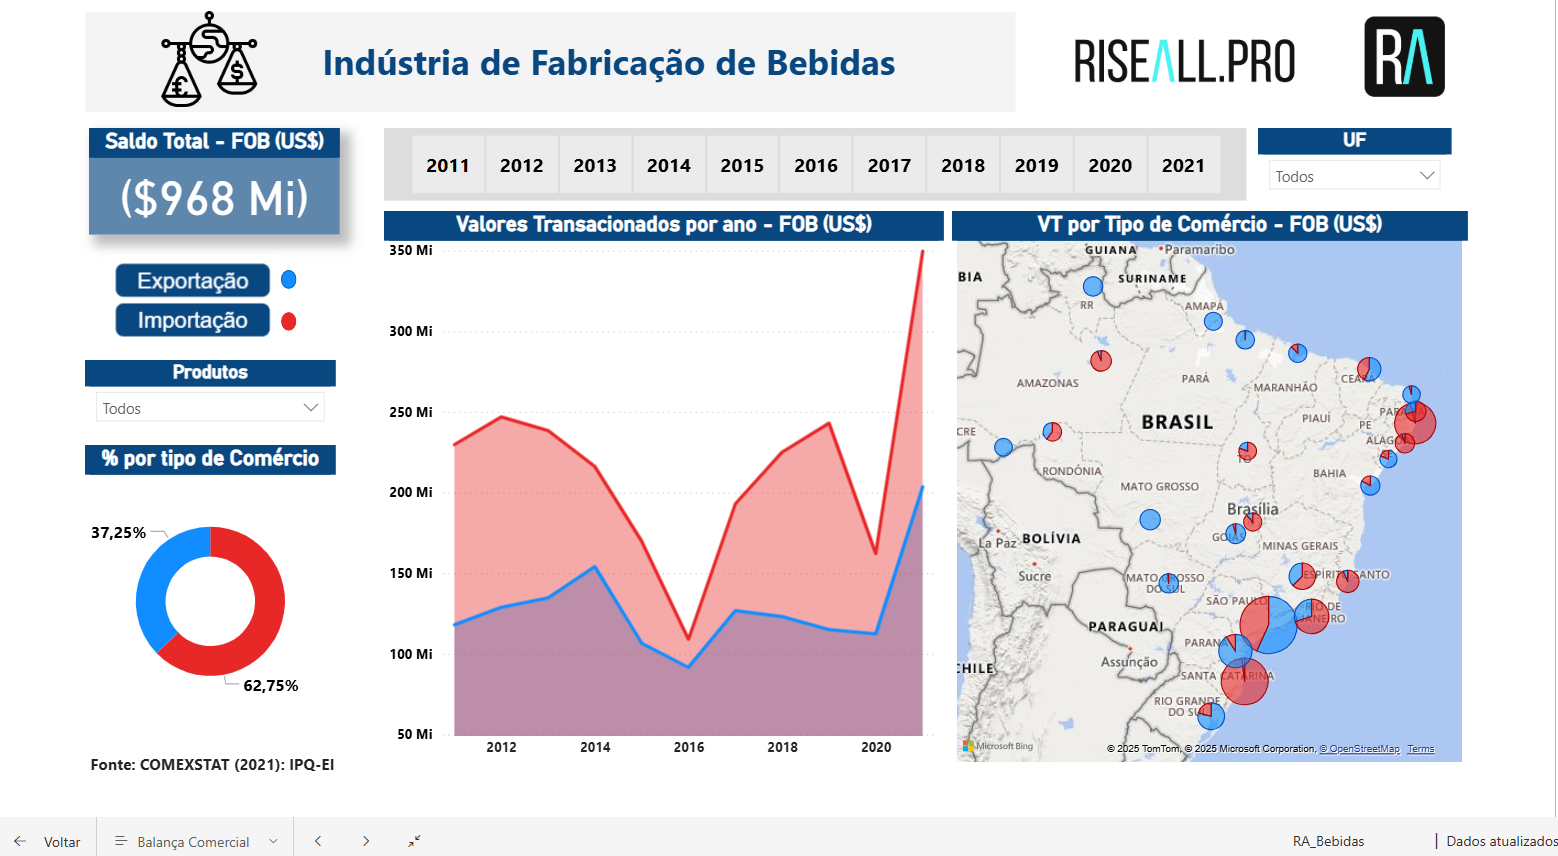

Layout of this report page (visuals, bound fields, positions):
{"tool":"powerbi","page":{"name":"Balança Comercial","canvas":[1280,720],"ordinal":6},"visuals":[{"type":"textbox","box":[15.8,11.5,846.5,90.5],"z":0},{"type":"areaChart","title":"Valores Transacionados por ano -  FOB (US$)","fields":{"Y":["Comércio_Exterior.Total Quantidade"],"Category":["Comércio_Exterior.Ano*.Variation.Hierarquia de datas.Ano"],"Series":["Comércio_Exterior.Tipo de Operação Comércio"]},"box":[287.4,192.6,508.7,505.9],"z":2000},{"type":"card","title":"Saldo Total - FOB (US$)","fields":{"Values":["Comércio_Exterior.Saldo"]},"box":[18.7,117.1,227.9,96.8],"z":3000},{"type":"slicer","fields":{"Values":["Comércio_Exterior.Ano*.Variation.Hierarquia de datas.Ano"]},"box":[287.2,117.1,783.6,65.6],"z":4000},{"type":"map","title":"VT por Tipo de Comércio - FOB (US$)","fields":{"Category":["Comércio_Exterior.UF "],"Series":["Comércio_Exterior.Tipo de Operação Comércio"],"Size":["Comércio_Exterior.Total Quantidade"]},"box":[803.4,192.6,468.5,505.9],"z":5000},{"type":"slicer","title":"UF","fields":{"Values":["Comércio_Exterior.UF "]},"box":[1081.8,117.1,176.4,65.6],"z":6000},{"type":"donutChart","title":"% por tipo de Comércio","fields":{"Category":["Comércio_Exterior.Tipo de Operação Comércio"],"Y":["Comércio_Exterior.Total Quantidade"]},"box":[15.6,405.9,227.9,262.2],"z":7000},{"type":"slicer","title":"Produtos","fields":{"Values":["Comércio_Exterior.Descrição NCM"]},"box":[15.6,327.8,227.9,68.7],"z":8000},{"type":"ChicletSlicer1448559807354","fields":{"Category":["Comércio_Exterior.Tipo de Operação Comércio"]},"box":[35.9,232.6,156.1,84.3],"z":9000},{"type":"shape","box":[193.6,246.6,14,17.2],"z":11000},{"type":"shape","box":[193.6,284.1,14,17.2],"z":12000},{"type":"image","title":"Balança Comercial","box":[35.9,4.7,185.8,99.9],"z":13000},{"type":"textbox","box":[15.8,681.2,241.4,38.8],"z":14000},{"type":"image","box":[911.1,23.5,208.7,64.5],"z":14001},{"type":"image","box":[1172.6,10.6,84.4,83.3],"z":14002}]}

Visuals, with their boxes on the page's 1280x720 design canvas (x1, y1, x2, y2). These are canvas units, not pixel positions in the 1558x856 screenshot, which may show the page scaled, cropped or inside an application window:
textbox: <box>16,12,862,102</box>
"Valores Transacionados por ano -  FOB (US$)" areaChart: <box>287,193,796,698</box>
"Saldo Total - FOB (US$)" card: <box>19,117,247,214</box>
slicer - Comércio_Exterior.Ano*.Variation.Hierarquia de datas.Ano: <box>287,117,1071,183</box>
"VT por Tipo de Comércio - FOB (US$)" map: <box>803,193,1272,698</box>
"UF" slicer: <box>1082,117,1258,183</box>
"% por tipo de Comércio" donutChart: <box>16,406,244,668</box>
"Produtos" slicer: <box>16,328,244,396</box>
ChicletSlicer1448559807354 - Comércio_Exterior.Tipo de Operação Comércio: <box>36,233,192,317</box>
shape: <box>194,247,208,264</box>
shape: <box>194,284,208,301</box>
"Balança Comercial" image: <box>36,5,222,105</box>
textbox: <box>16,681,257,720</box>
image: <box>911,24,1120,88</box>
image: <box>1173,11,1257,94</box>
